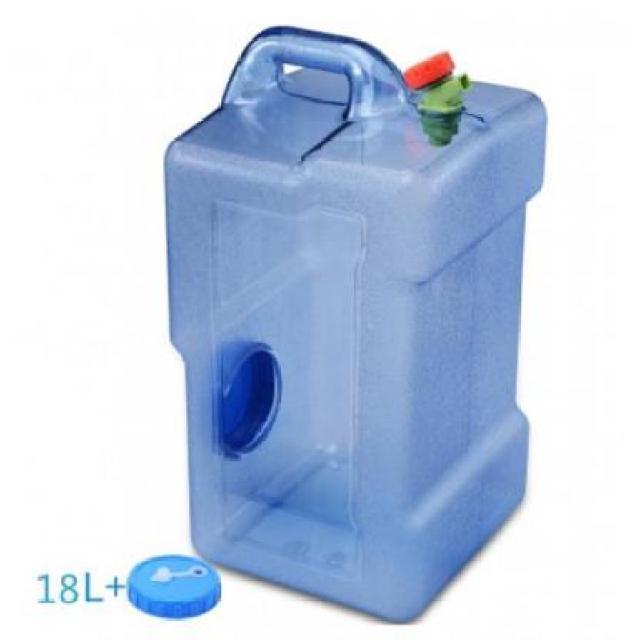coolerbottle: (154, 20, 554, 630)
